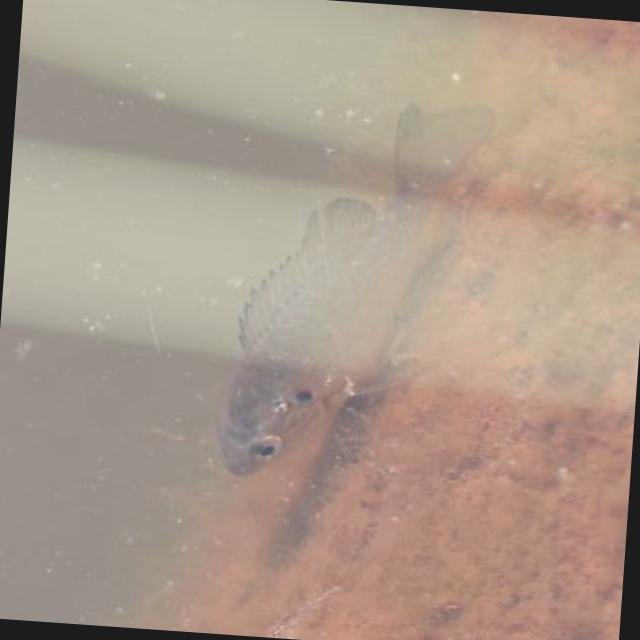Gunes Levregi: (202, 87, 504, 497)
